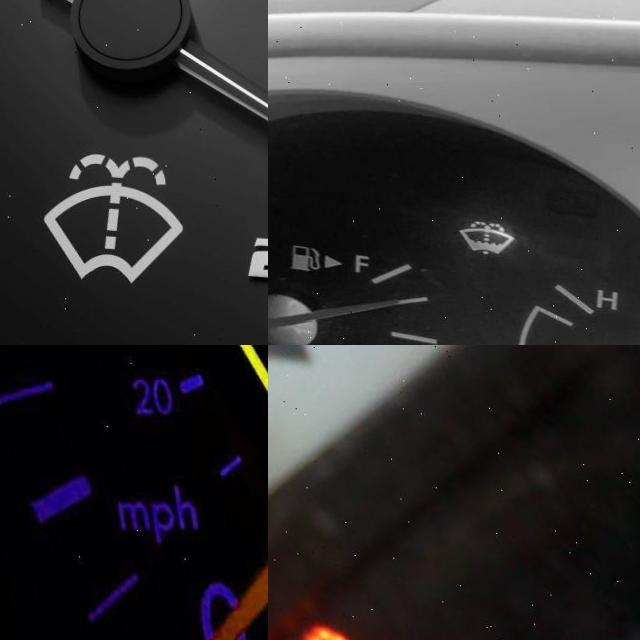Washer Fluid: (20, 152, 179, 280), (215, 345, 268, 413), (449, 216, 513, 260)
